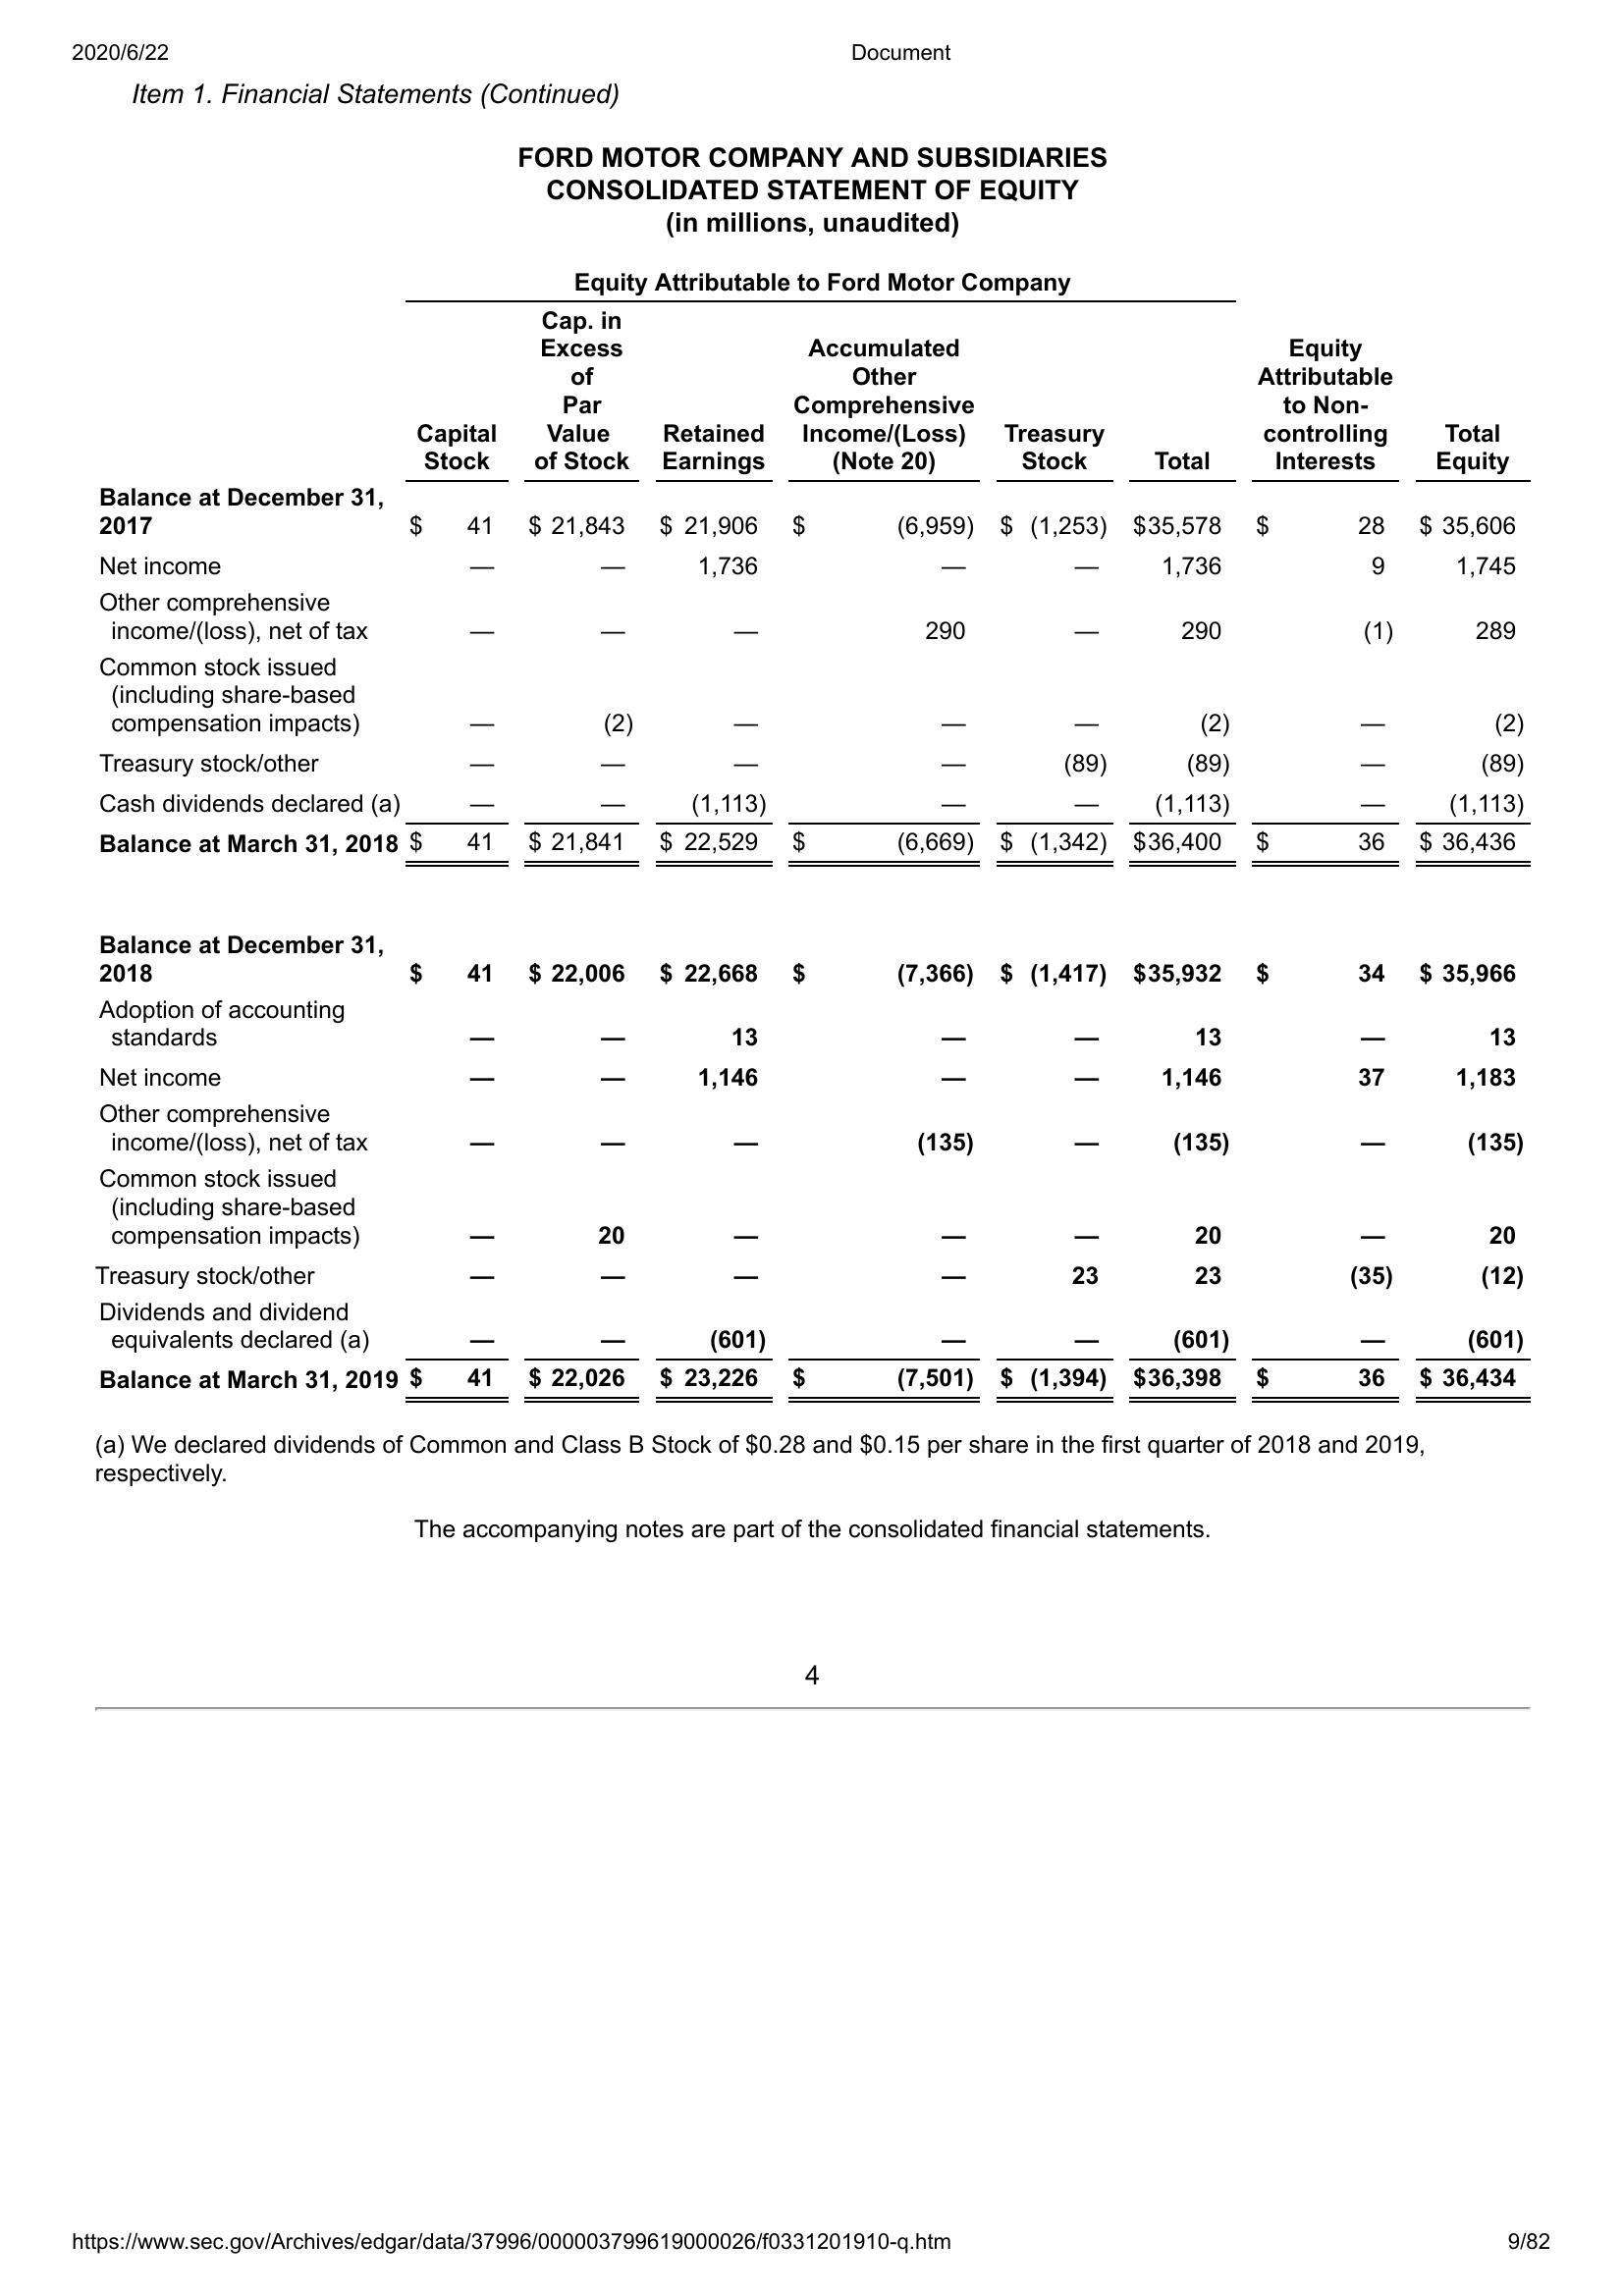table: (95, 262, 1533, 869), (98, 927, 1533, 1408)
